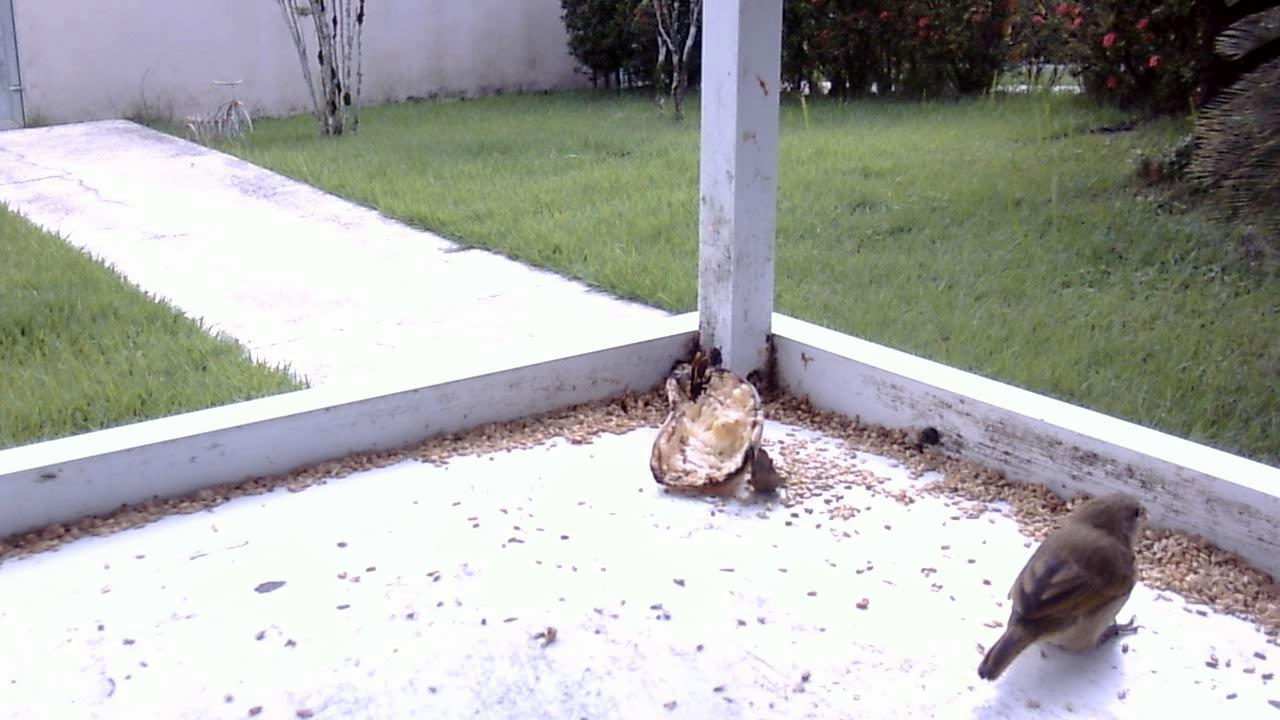canario_do_amazonas: (971, 485, 1157, 691)
